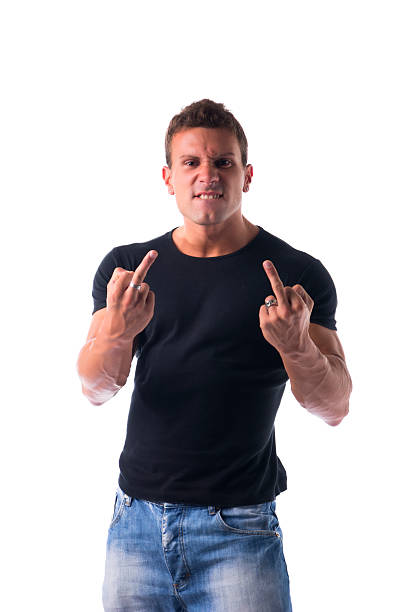insulting_gesture: (258, 260, 315, 351), (106, 248, 158, 334)
